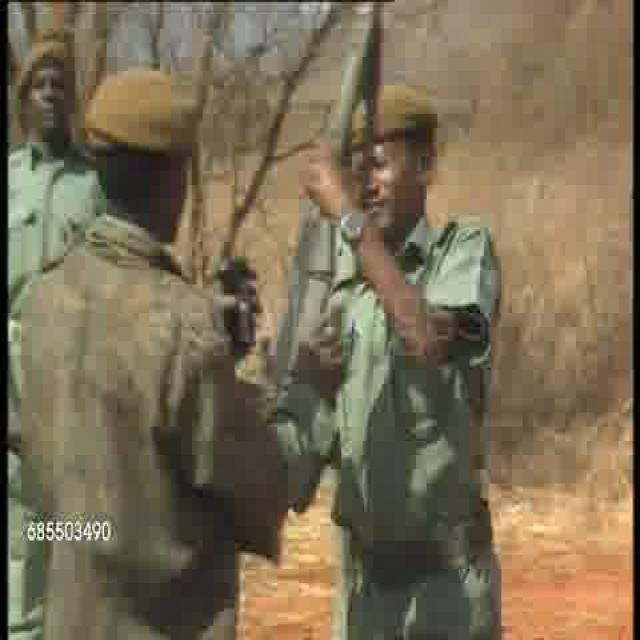Hunter: (28, 62, 276, 640), (316, 74, 508, 640)
Rifle: (290, 5, 376, 347)
